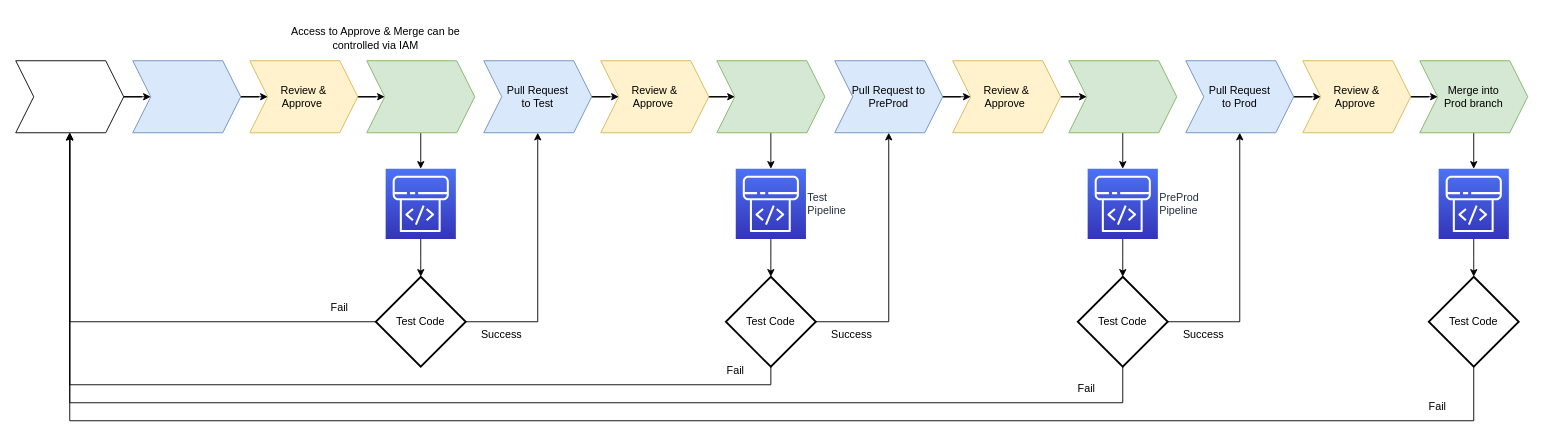
Image size: 1565x444. Some labels were removed from this diagram. The box of each missing label's shape, as (x1, y1, x2, y2) in pixels:
Dev Pipeline: (385, 168, 456, 239)
Develop in Personal Branch: user-local: (15, 60, 124, 133)
Merge into Dev branch: (366, 60, 475, 133)
Merge into PreProd branch: (1068, 60, 1177, 133)
Merge into Test branch: (716, 60, 825, 133)
Prod Pipeline: (1438, 168, 1509, 239)
Pull Request to Dev: (132, 60, 241, 133)
